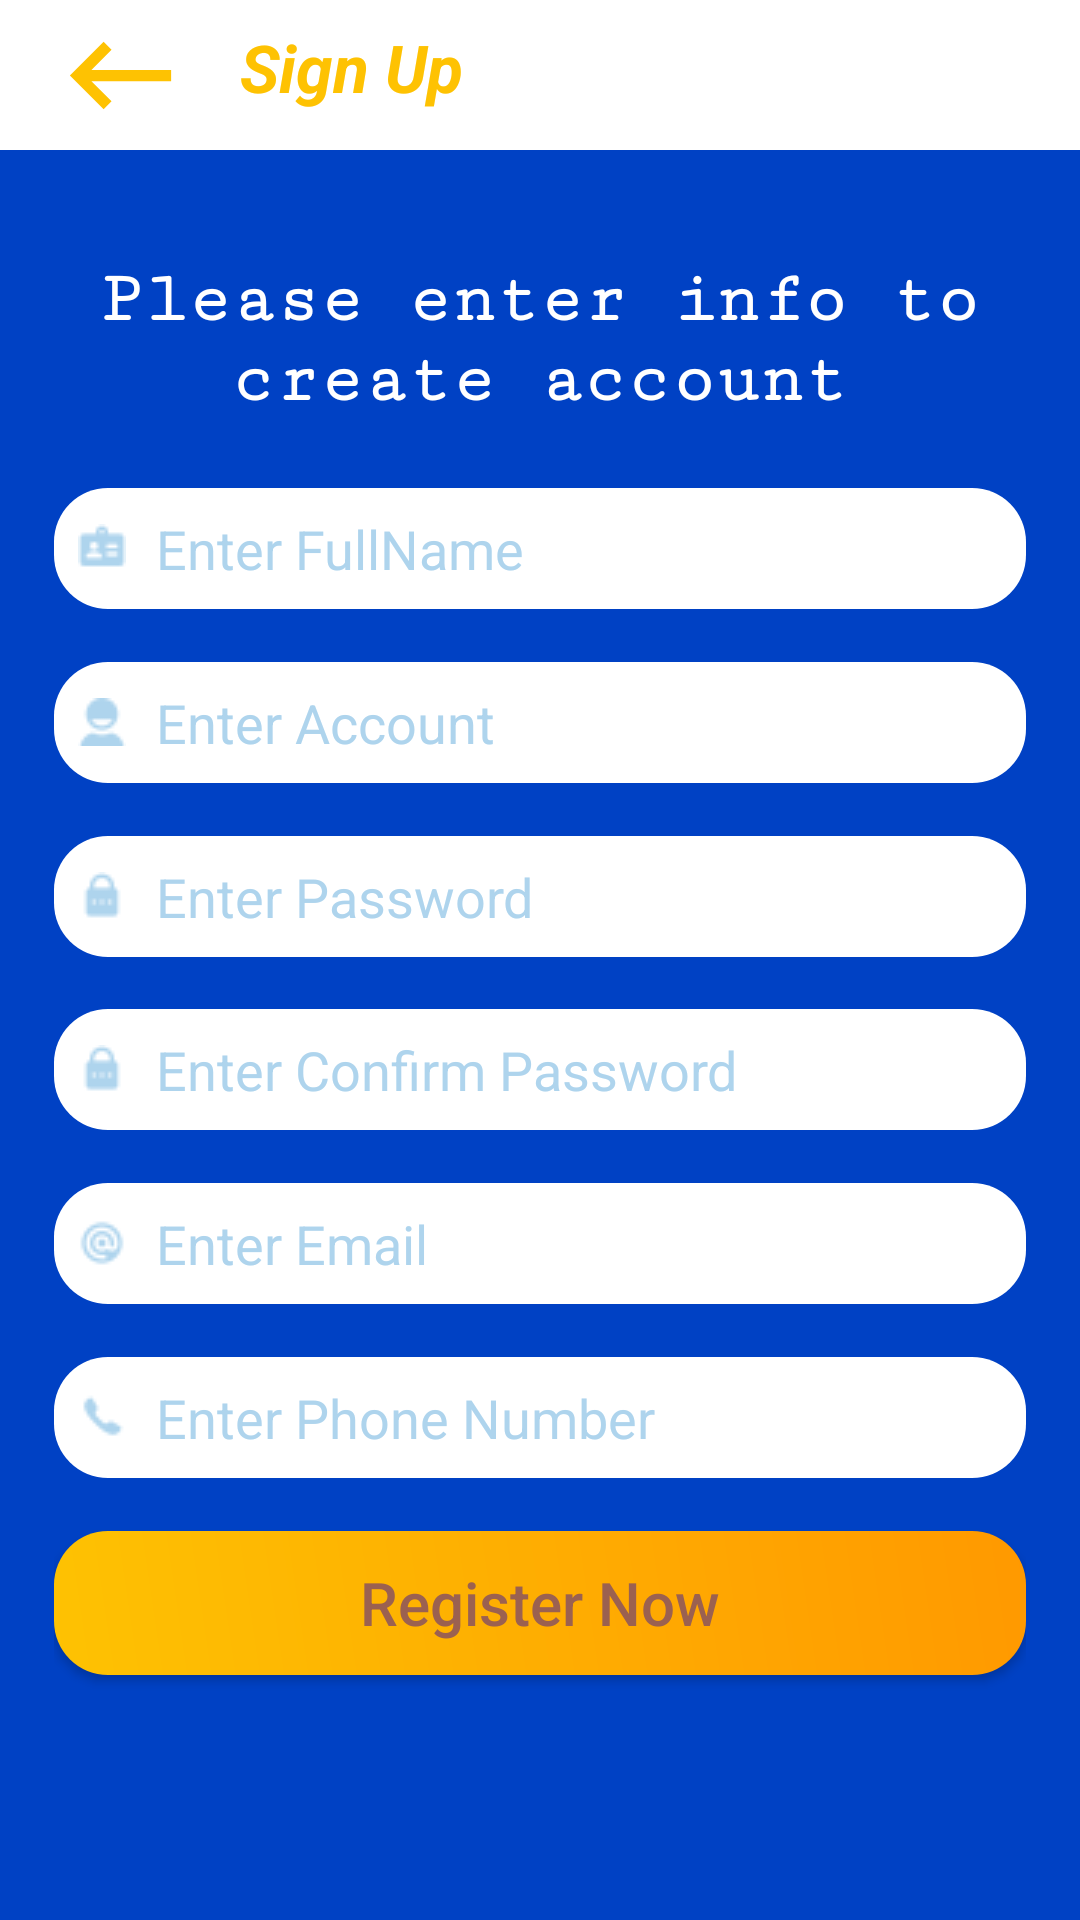

Where to tap for icons on this 1080w x 1920h app screen, as point (x, y):
keyboard backspace: point (121, 75)
